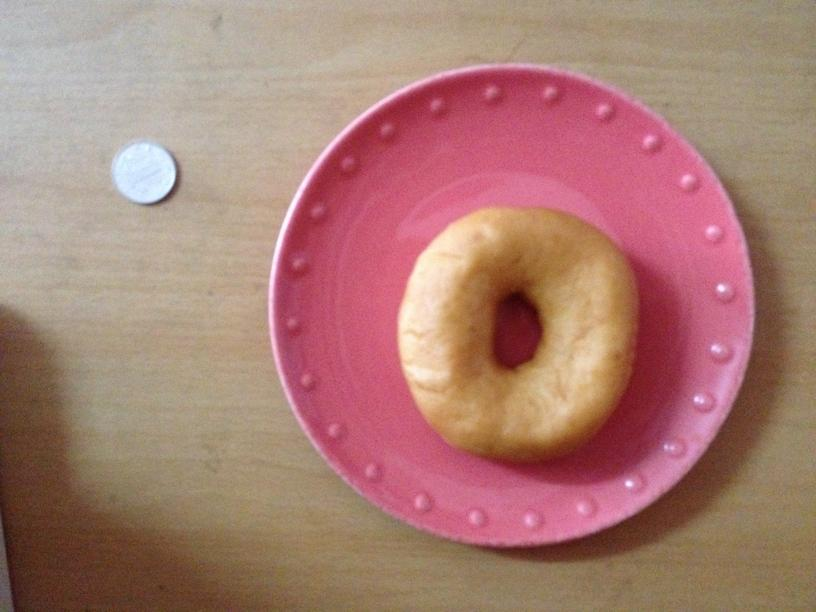coin: (111, 140, 175, 204)
doughnut: (397, 204, 639, 461)
